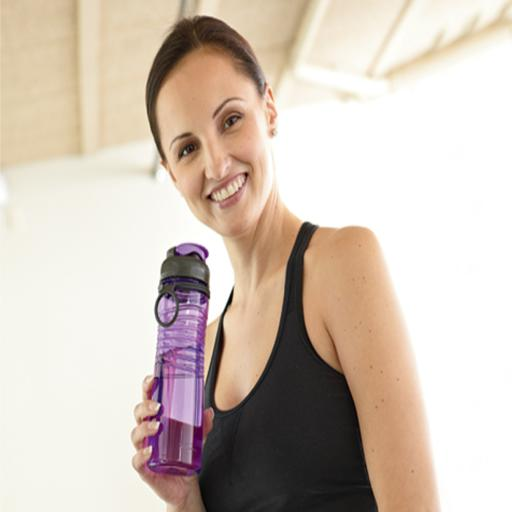Person: (75, 62, 449, 453)
no_gloves: (112, 337, 202, 438)
no_goggle: (154, 141, 270, 195)
no_helmet: (130, 61, 260, 123)
none: (197, 224, 409, 448)
